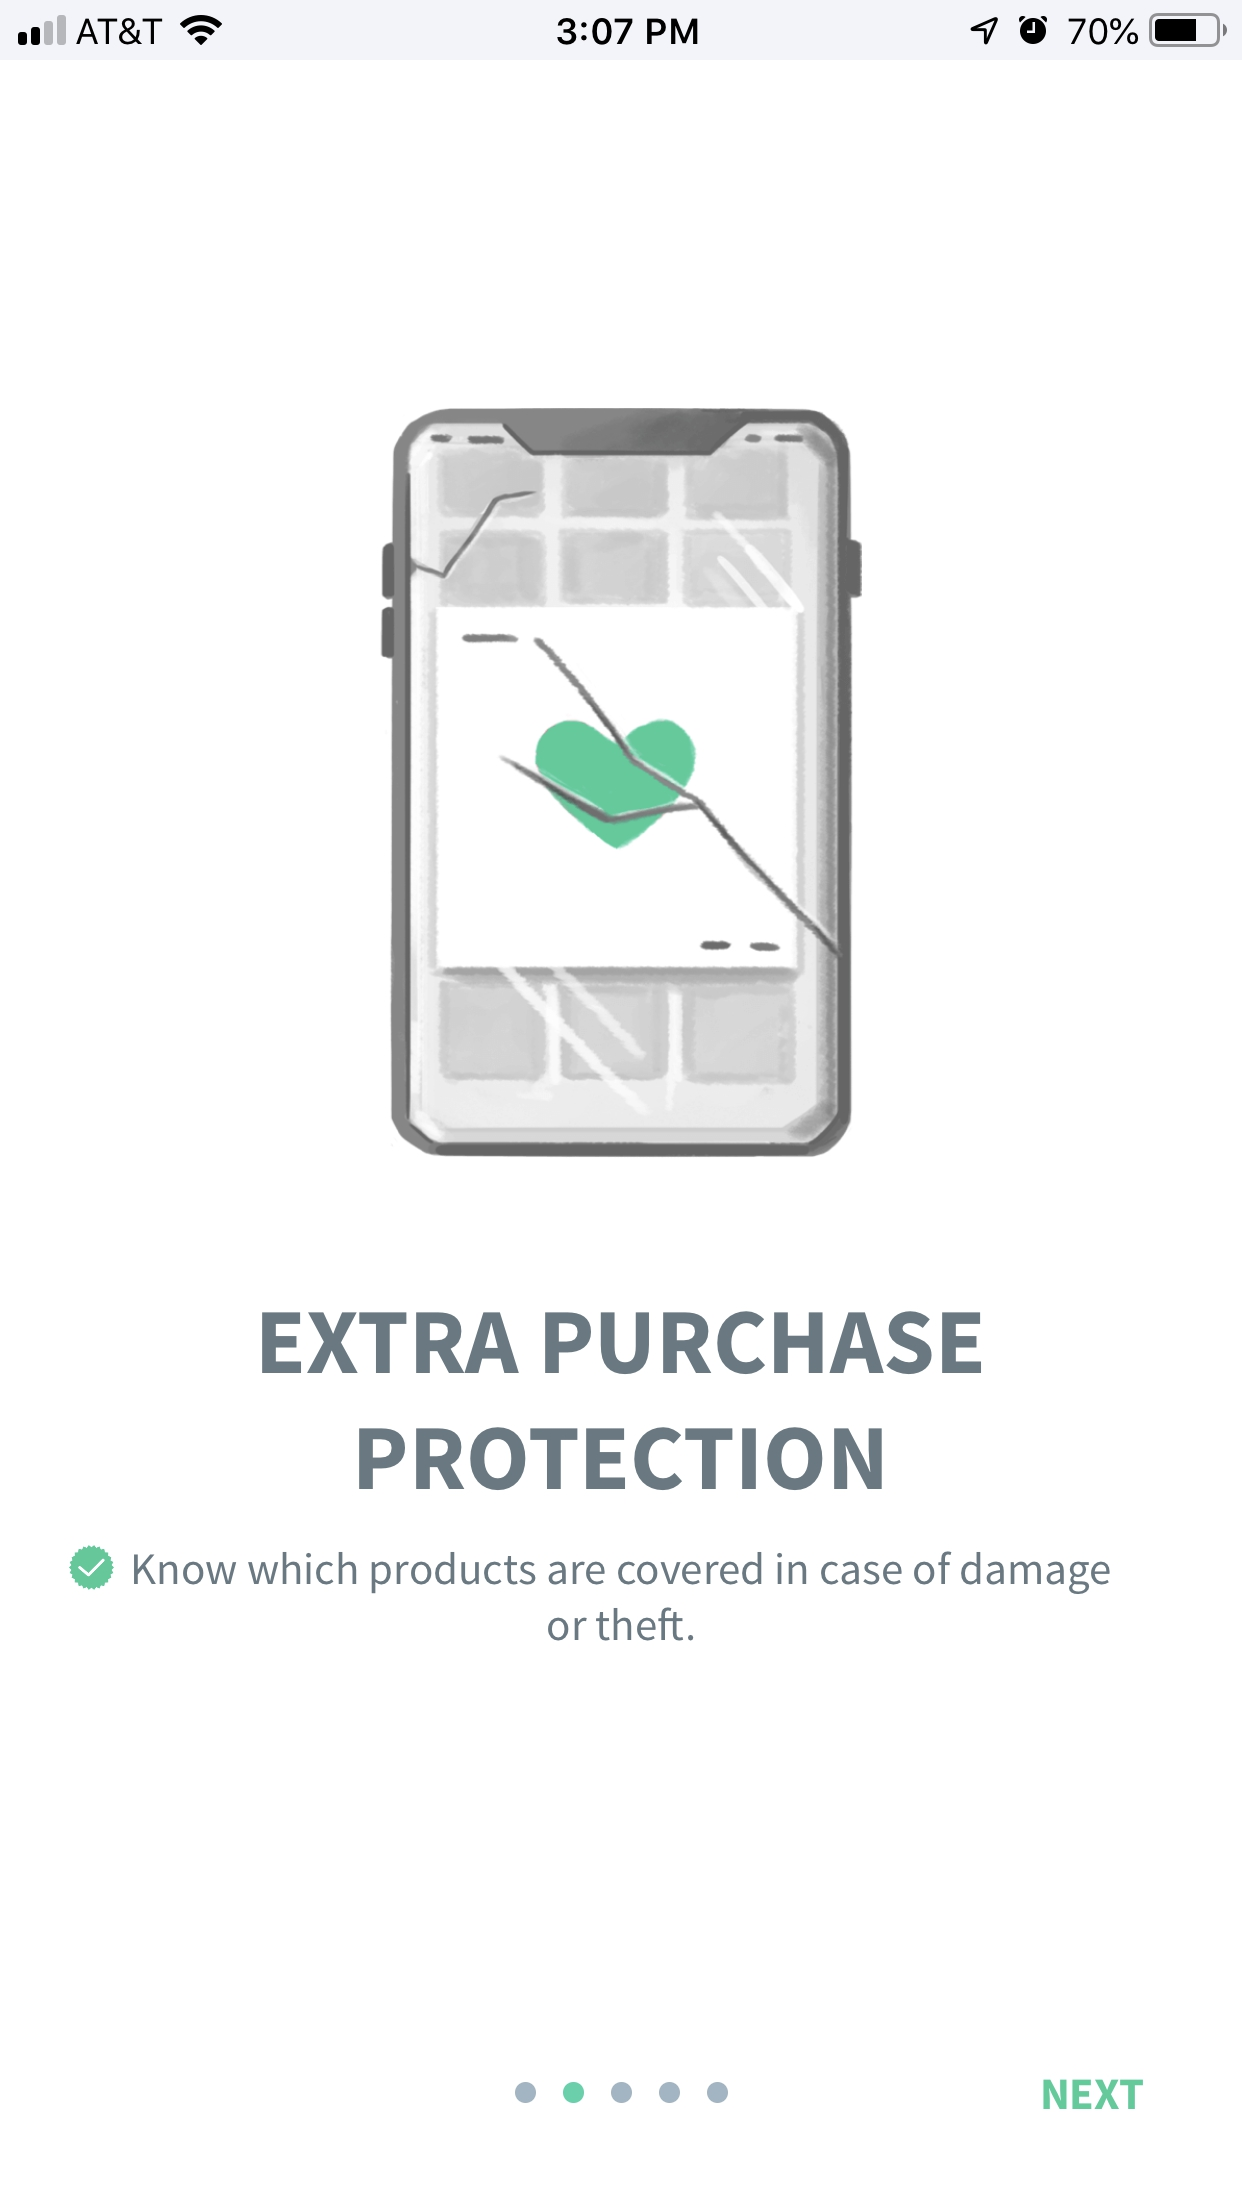Icon: (70, 1545, 115, 1591)
Image: (382, 408, 864, 1159)
PageIndicator: (516, 2081, 729, 2103)
Text: (262, 1310, 983, 1491), (133, 1551, 1112, 1642), (1043, 2078, 1143, 2109)
UpperTaskBar: (2, 2, 1242, 61)
